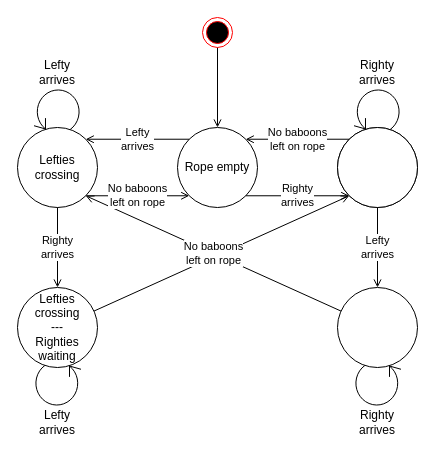
This 435x455 diagram has some shape labels left out. The centre of each missing label's shape, as x and y in pixels:
Righties crossing: point (377, 167)
Righties crossing --- Lefties waiting: point (377, 327)
